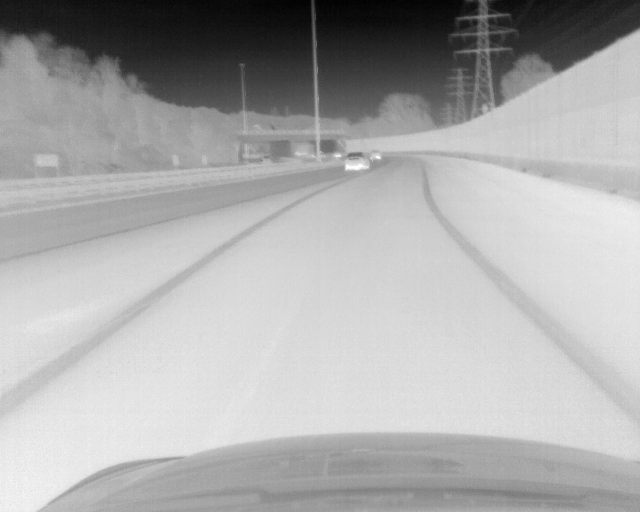car: (342, 150, 371, 171), (369, 150, 383, 160)
